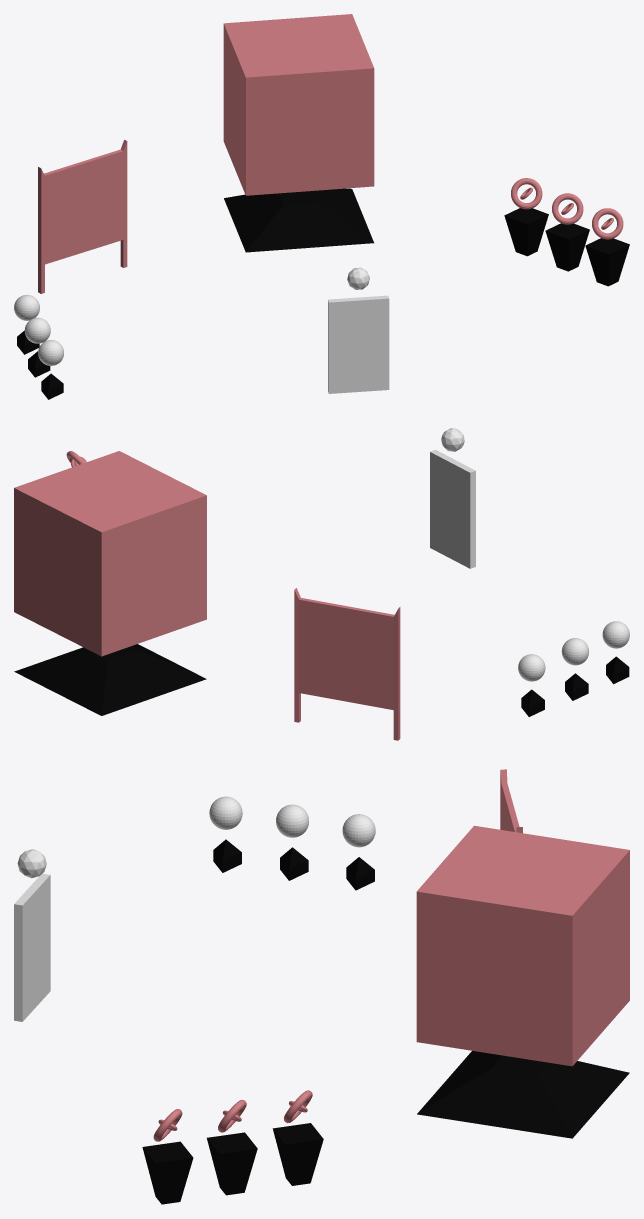
The model's file is lobbybasic.dae.
3 views of the same model, one above another, from view 1: azimuth 30°, elevation 25°; view 2: azimuth 150°, elevation 25°; view 3: azimuth 270°, elevation 25° (orthographic). The views are drawn at different scales.
Parts seen in each view (by area): view 1: div_cube, sign_board, div_cube_base, portal_door, Cube_001, Cube_002, Cube, nav_orb_001, nav_orb_002, nav_orb, Torus, Torus_004 (+1 smaller); view 2: div_cube, sign_board, div_cube_base, portal_door, nav_orb_002, nav_orb, nav_orb_001, nav_cone, nav_cone_001, nav_cone_002, portal_orb; view 3: div_cube, div_cube_base, portal_door, Cube, Cube_001, Cube_002, nav_orb, nav_orb_002, nav_orb_001, sign_board, nav_cone_001, nav_cone (+2 smaller).
Boxes of the visible parts, x1,y1,x2,y2 form: div_cube: [223, 14, 374, 195]; sign_board: [38, 139, 127, 293]; div_cube_base: [224, 188, 373, 252]; portal_door: [328, 295, 389, 393]; Cube_001: [545, 223, 589, 271]; Cube_002: [585, 238, 629, 286]; Cube: [504, 208, 548, 256]; nav_orb_001: [24, 317, 50, 343]; nav_orb_002: [38, 340, 63, 365]; nav_orb: [14, 294, 39, 320]; Torus: [511, 178, 542, 209]; Torus_004: [592, 208, 623, 239]; div_cube: [14, 451, 206, 656]; sign_board: [294, 588, 400, 740]; div_cube_base: [14, 644, 206, 715]; portal_door: [430, 449, 475, 568]; nav_orb_002: [602, 621, 629, 648]; nav_orb: [518, 654, 545, 681]; nav_orb_001: [561, 638, 589, 665]; nav_cone: [521, 689, 544, 716]; nav_cone_001: [565, 673, 588, 700]; nav_cone_002: [606, 656, 629, 684]; portal_orb: [441, 428, 464, 451]; div_cube: [416, 825, 629, 1066]; div_cube_base: [417, 1051, 629, 1138]; portal_door: [14, 873, 50, 1021]; Cube: [272, 1123, 323, 1185]; Cube_001: [207, 1132, 257, 1195]; Cube_002: [142, 1141, 193, 1204]; nav_orb: [342, 814, 375, 847]; nav_orb_002: [209, 796, 242, 829]; nav_orb_001: [276, 804, 308, 837]; sign_board: [500, 769, 522, 833]; nav_cone_001: [280, 847, 308, 880]; nav_cone: [346, 857, 374, 890].
Size of what is drawn, in the model's own units: 16.26 by 12.1 by 4.88.
